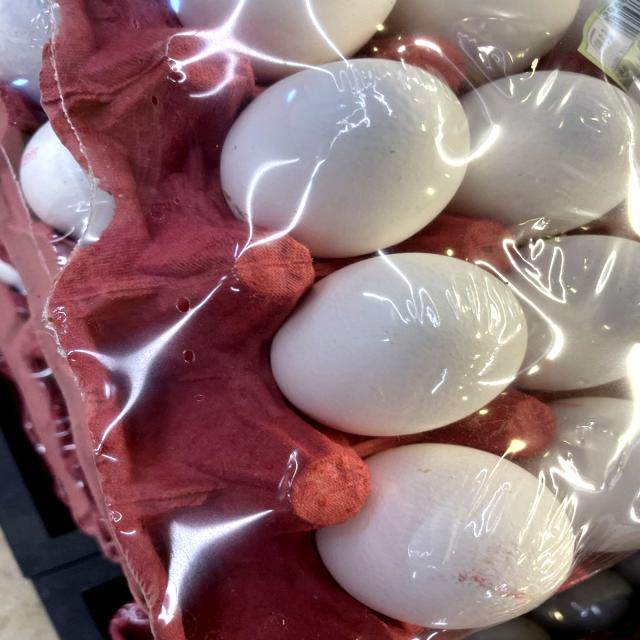egg: (220, 49, 472, 253), (309, 436, 582, 619), (268, 245, 521, 435)
